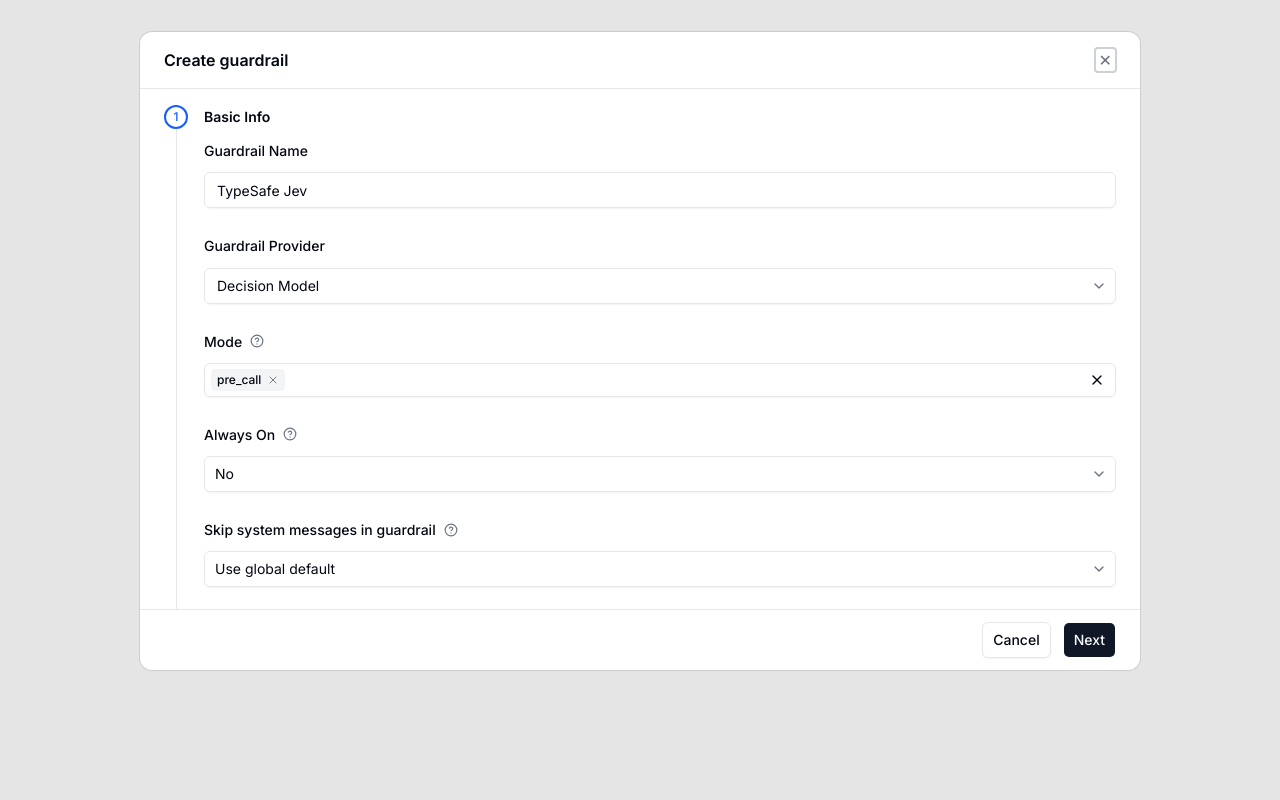
Test: AddGuardrailForm decision model questions › prefills the garden card's provider model and lists only that provider's models
The image size is (1280, 800).
expect the field labelled "Guardrail Name" holds "TypeSafe Jev": met, box [204,172,1116,208]
Click the button "Next": (1089, 640) [1063,622,1116,658]
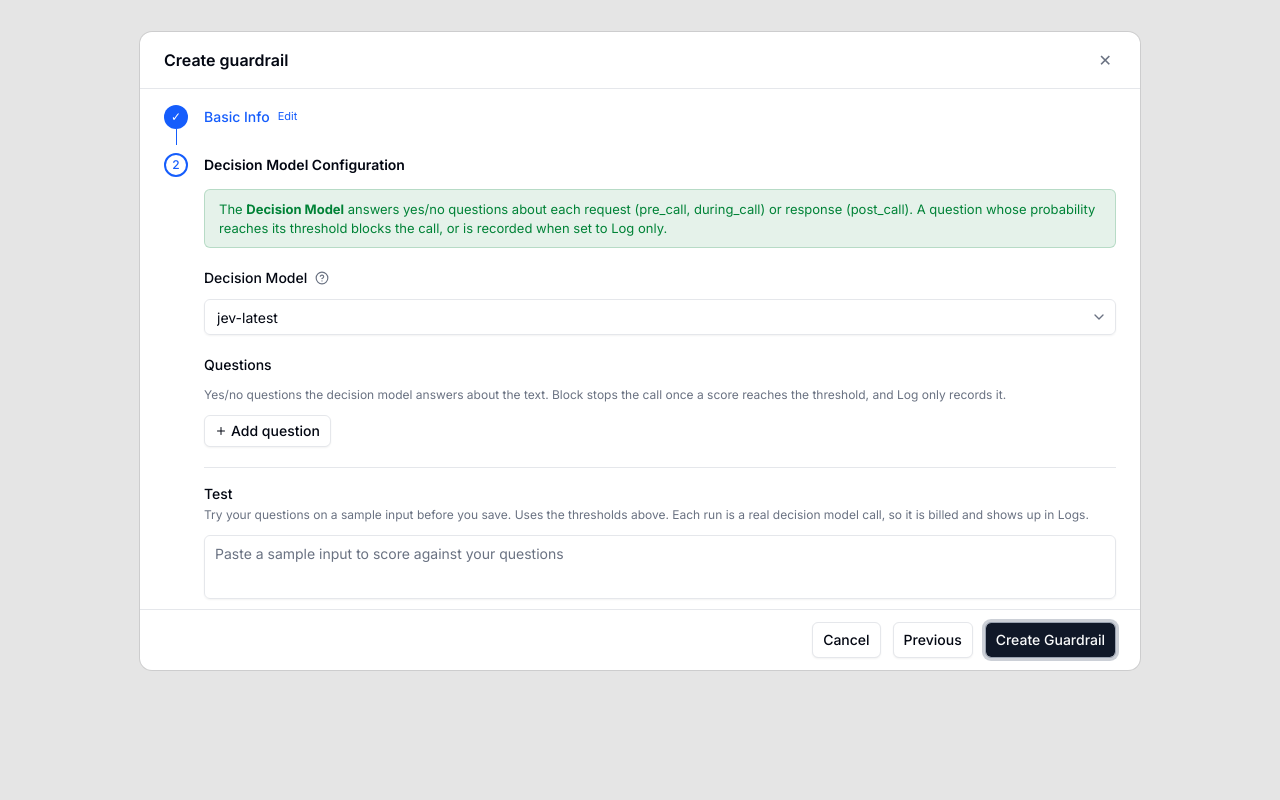
expect the dropdown labelled "Decision Model" holds "jev-latest": met
Click the dropdown labelled "Decision Model": (646, 317) [205,299,1087,335]
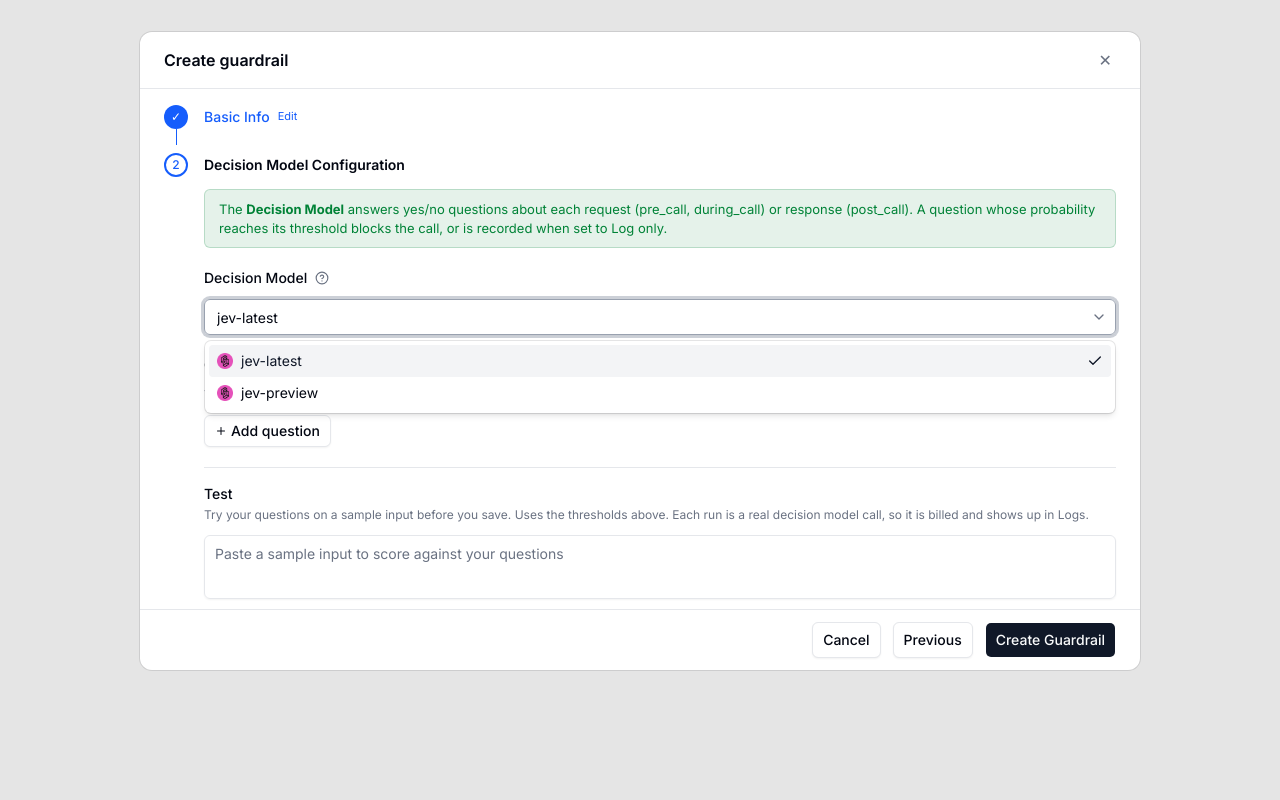
expect the option titled "jev-preview" is shown: met, box [217,384,318,401]
